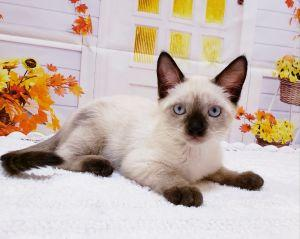siamese: (150, 46, 254, 153)
